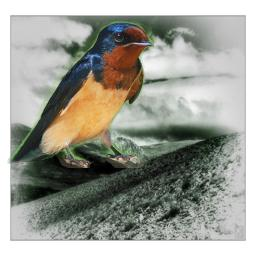Swallow: (7, 21, 154, 168)
